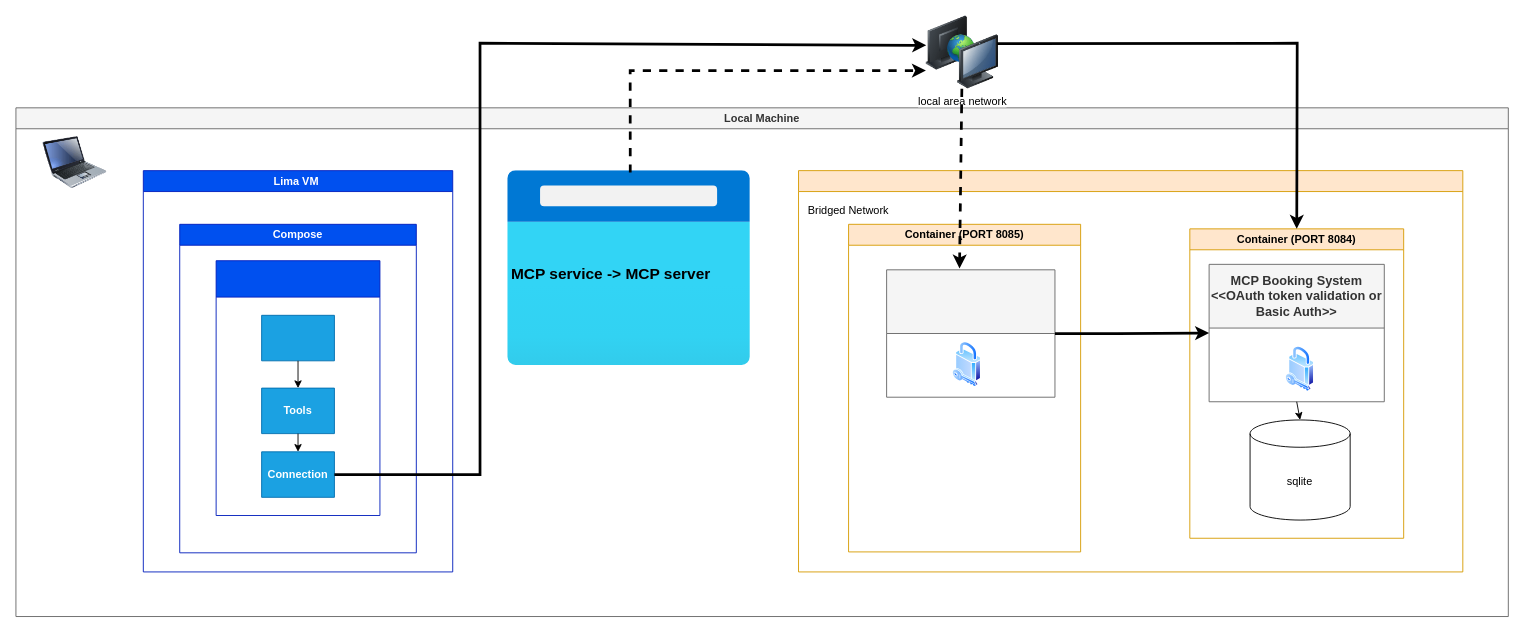
Some shapes in this 1524 by 632 pixel diagram are drawn without their labels. The box of each missing label's shape, as (x1, y1, x2, y2) in pixels:
Agent: (261, 314, 334, 361)
Booking UI (Flask) <<MCP usage>> <<OAuth or Basic Auth>>: (886, 269, 1055, 397)
Browser: (507, 170, 750, 365)
Docker Compose: (798, 170, 1463, 572)
watsonx Orchestrate Development Edition: (215, 260, 380, 516)
